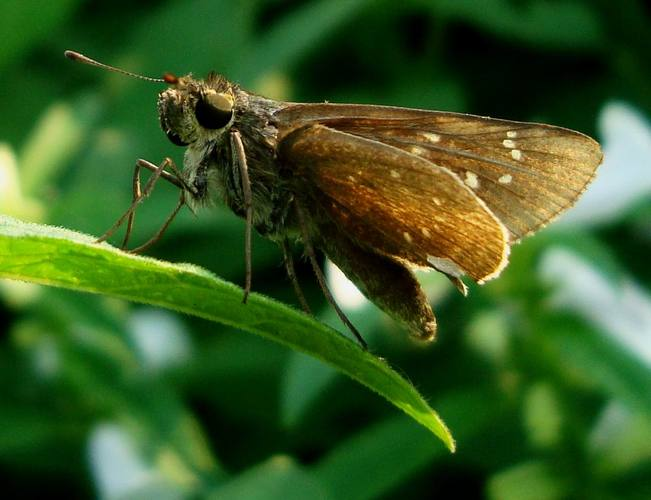Hesperiidae: (66, 45, 600, 354)
